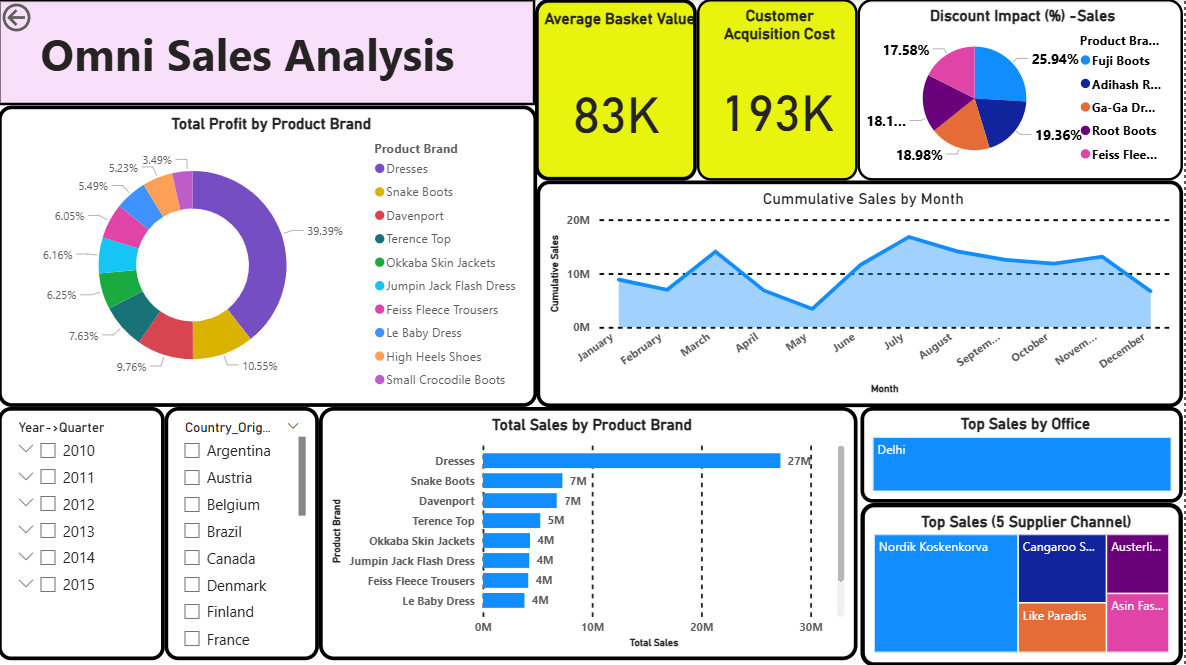

The page's visual inventory and layout, read from the dashboard file:
{"tool":"powerbi","page":{"name":"Omni Channel Sales Analysis","canvas":[1280,720],"ordinal":0},"visuals":[{"type":"donutChart","title":"Total Profit by Product Brand","fields":{"Category":["Products.ProductName"],"Y":["OrderDetails (2).Total_Profit"]},"box":[0,115.3,582.1,325],"z":0},{"type":"slicer","fields":{"Values":["OrdersHeader (2).Order_Date.Variation.Date Hierarchy.Year","OrdersHeader (2).Order_Date.Variation.Date Hierarchy.Quarter"]},"box":[0,440.4,179.7,273.6],"z":1000},{"type":"barChart","title":"Total Sales by Product Brand","fields":{"Category":["Products.ProductName"],"Y":["Sum(OrderDetails (2).Total_Sales)"]},"box":[346.5,440.4,581.3,273.6],"z":2000},{"type":"pieChart","title":"Discount Impact (%) -Sales","fields":{"Category":["Products.ProductName"],"Y":["Categories.Discount Impact (%)"]},"box":[927.8,0,351.4,195.9],"z":3000},{"type":"lineChart","fields":{"Category":["OrdersHeader (2).Order_Date.Variation.Date Hierarchy.Month"],"Y":["Categories.Cummulative Sales"]},"box":[581.3,195.9,697.9,244.5],"z":4000},{"type":"treemap","title":"Top Sales by Office","fields":{"Group":["Offices.SalesOffice"],"Values":["Categories.Maximum Sales"]},"box":[931.1,440.4,348.1,103.6],"z":5000},{"type":"textbox","box":[0,0,579.7,115],"z":6000},{"type":"card","title":"Average Basket Value ","fields":{"Values":["OrderDetails (2).Average Basket Value (ABV)"]},"box":[579.7,0,174.9,195.9],"z":7000},{"type":"treemap","title":"Top Sales (5 Supplier Channel)","fields":{"Group":["SUPPLIER.SUPPLIER"],"Values":["Categories.Maximum Sales"]},"box":[931.1,544.1,348.1,176.5],"z":8000},{"type":"actionButton","box":[0,0,100,40],"z":9000},{"type":"card","title":"Customer Acquisition Cost","fields":{"Values":["SUPPLIER.Customer Acquisition Cost"]},"box":[754.6,0,173.3,195.9],"z":10000},{"type":"slicer","fields":{"Values":["Customers.Country_Original"]},"box":[179.7,440.4,166.8,273.6],"z":11000}]}

Visuals, with their boxes in screenshot pixels (x1, y1, x2, y2), scaled from the page's 1280x720 canvas onto the 1186x665 screenshot:
"Total Profit by Product Brand" donutChart: 0, 106, 539, 407
slicer - OrdersHeader (2).Order_Date.Variation.Date Hierarchy.Year x OrdersHeader (2).Order_Date.Variation.Date Hierarchy.Quarter: 0, 407, 167, 659
"Total Sales by Product Brand" barChart: 321, 407, 860, 659
"Discount Impact (%) -Sales" pieChart: 860, 0, 1185, 181
lineChart - OrdersHeader (2).Order_Date.Variation.Date Hierarchy.Month x Categories.Cummulative Sales: 539, 181, 1185, 407
"Top Sales by Office" treemap: 863, 407, 1185, 502
textbox: 0, 0, 537, 106
"Average Basket Value " card: 537, 0, 699, 181
"Top Sales (5 Supplier Channel)" treemap: 863, 503, 1185, 664
actionButton: 0, 0, 93, 37
"Customer Acquisition Cost" card: 699, 0, 860, 181
slicer - Customers.Country_Original: 167, 407, 321, 659
